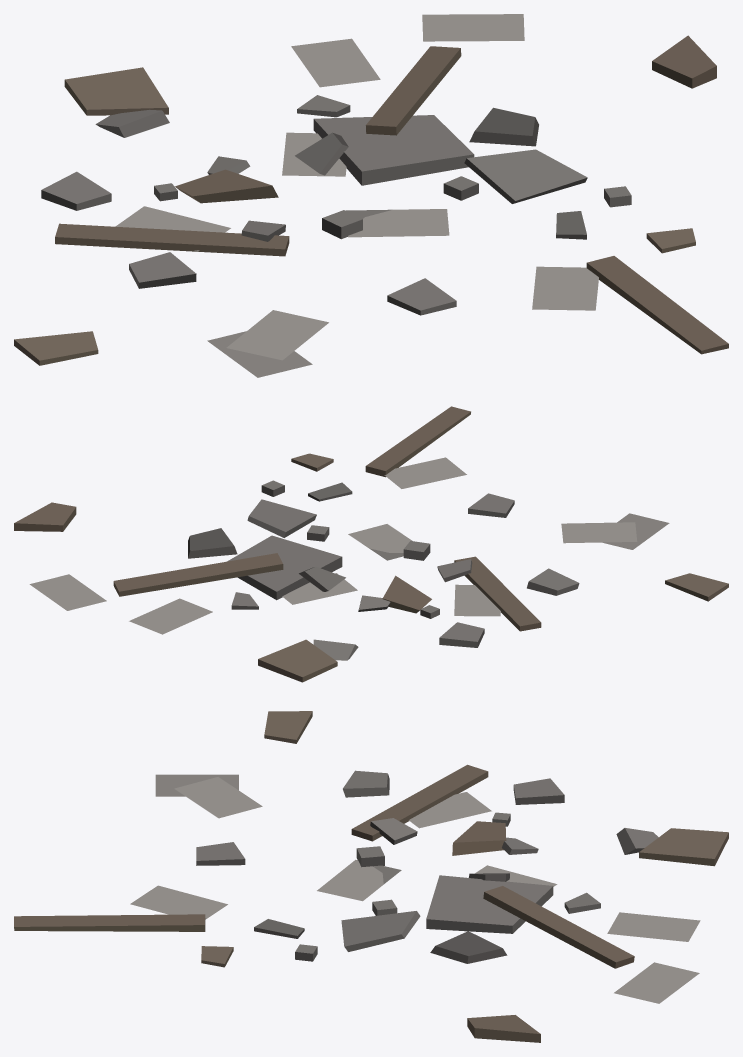
Rendered from AI_Env_GroundDirt_02.fbx.
3 renders of one model, top to bottom at view 1: azimuth 30°, elevation 25°; view 2: azimuth 150°, elevation 25°; view 3: azimuth 270°, elevation 25°, orthographic. The views are drawn at different scales.
Parts seen in each view (by area): view 1: AI_Env_GroundDirt_02; view 2: AI_Env_GroundDirt_02; view 3: AI_Env_GroundDirt_02.
Part boxes in pixels (x1,y1,x2,y2): AI_Env_GroundDirt_02: (14, 14, 728, 377); AI_Env_GroundDirt_02: (14, 406, 728, 682); AI_Env_GroundDirt_02: (14, 711, 728, 1042).
Bounding box in the file's own units: 5.03 × 0.1494 × 4.64.
